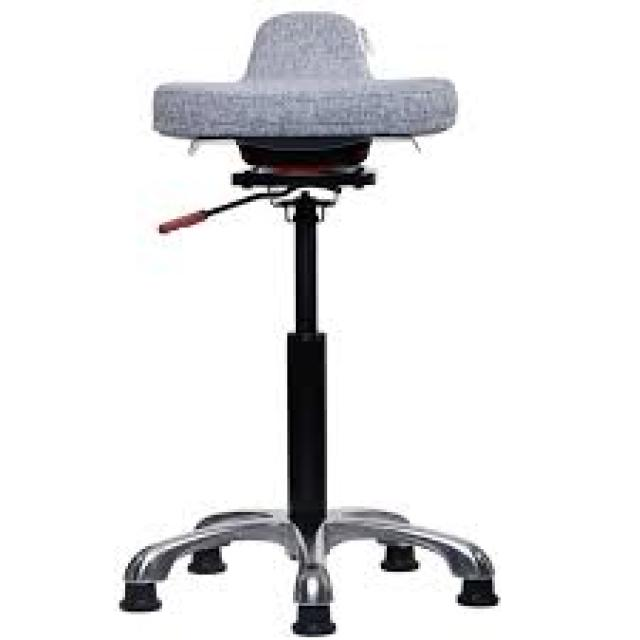chair: (89, 0, 583, 640)
